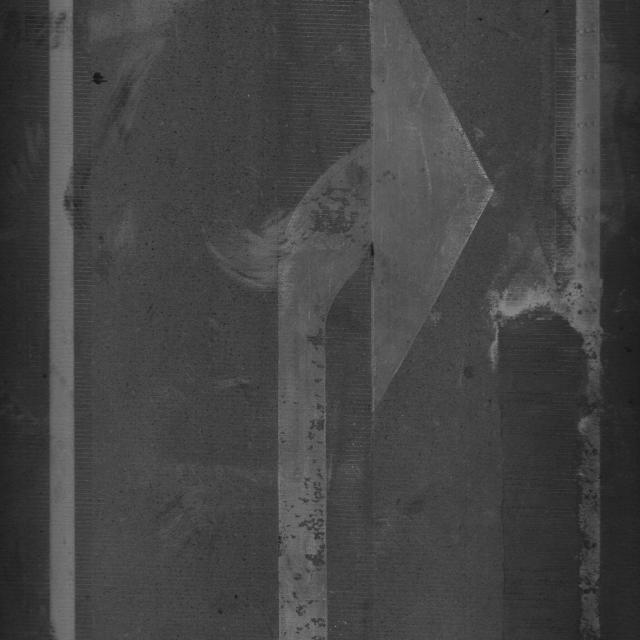right: (43, 0, 612, 630)
